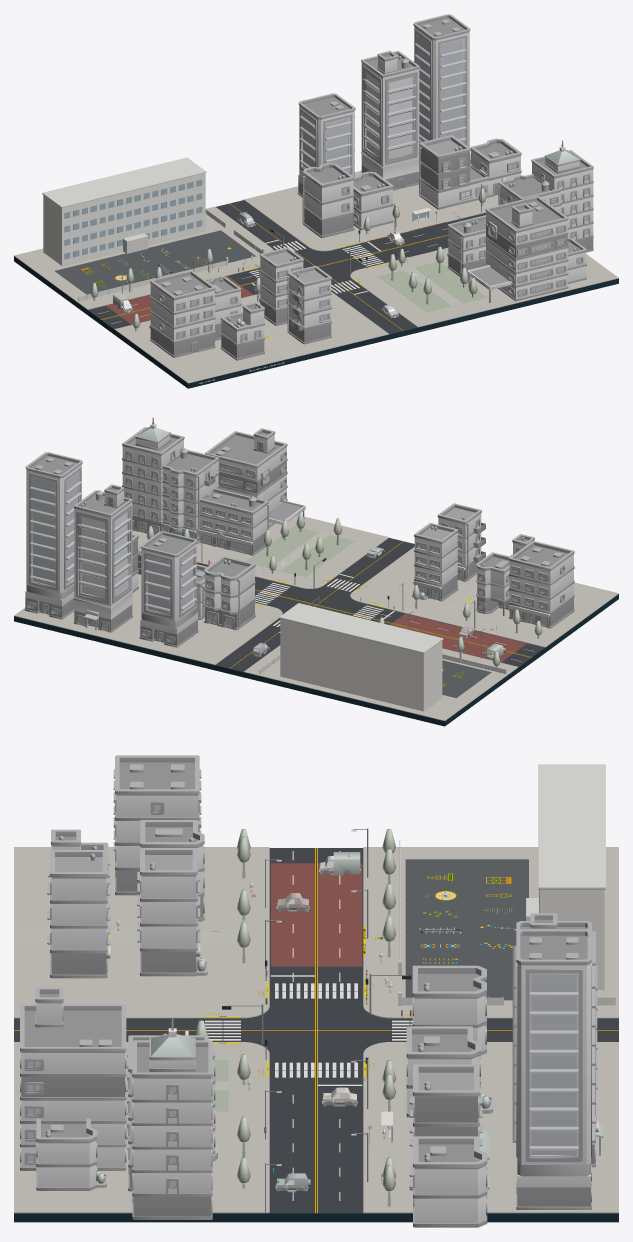
The model's file is diorama.glb.
3 views of the same model, one above another, from view 1: azimuth 30°, elevation 25°; view 2: azimuth 150°, elevation 25°; view 3: azimuth 270°, elevation 25° (orthographic). The views are drawn at different scales.
Parts seen in each view (by area): view 1: asphalt, building-n, building-skyscraper-c, school_bldg, building-skyscraper-b, block_SW, block_NE, school_yard, building-i, block_SE, block_NW, building-skyscraper-a (+18 smaller); view 2: school_bldg, building-skyscraper-b, building-skyscraper-c, block_SW, asphalt, building-skyscraper-a, building-n, building-i, block_NE, building-m, block_SE, building-k (+16 smaller); view 3: asphalt, building-skyscraper-b, block_SW, block_NE, building-n, building-m, school_yard, block_SE, block_NW, school_roof, building-f, building-g (+17 smaller).
Boxes of the visible parts, x1,y1,x2,y2 form: asphalt: [88, 200, 485, 334]; building-n: [467, 196, 568, 302]; building-skyscraper-c: [361, 51, 419, 190]; school_bldg: [43, 173, 205, 265]; building-skyscraper-b: [413, 14, 470, 163]; block_SW: [114, 292, 389, 383]; block_NE: [243, 171, 498, 251]; school_yard: [55, 230, 255, 294]; building-i: [149, 270, 215, 357]; block_SE: [350, 248, 618, 327]; block_NW: [14, 206, 274, 309]; building-skyscraper-a: [297, 93, 355, 197]; school_bldg: [280, 618, 442, 711]; building-skyscraper-b: [24, 452, 82, 619]; building-skyscraper-c: [74, 484, 132, 632]; block_SW: [350, 547, 618, 647]; asphalt: [138, 538, 544, 671]; building-skyscraper-a: [139, 531, 198, 647]; building-n: [205, 428, 305, 537]; building-i: [508, 541, 574, 628]; block_NE: [14, 574, 282, 664]; building-m: [122, 417, 184, 535]; block_SE: [132, 515, 388, 588]; building-k: [198, 488, 268, 555]; asphalt: [14, 848, 618, 1213]; building-skyscraper-b: [512, 929, 595, 1209]; block_SW: [14, 847, 269, 1018]; block_NE: [363, 1042, 618, 1213]; building-n: [20, 987, 128, 1170]; building-m: [132, 1018, 212, 1219]; school_yard: [405, 859, 528, 1000]; block_SE: [14, 1042, 269, 1213]; block_NW: [363, 847, 618, 1018]; school_roof: [538, 764, 605, 889]; building-f: [137, 848, 207, 976]; building-g: [47, 850, 110, 978].
Size of the model in its own units: 125 by 40.03 by 84.03.
Materials: 87 (63 with a texture image).
